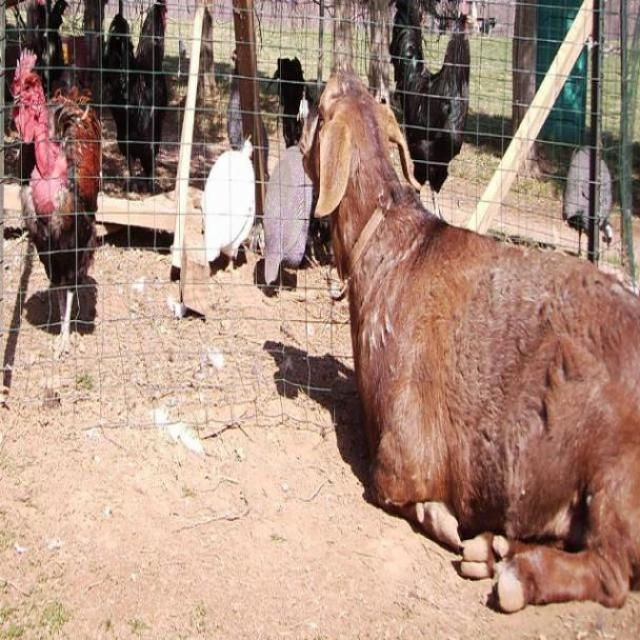Chicken: (12, 57, 99, 340), (389, 2, 471, 218), (104, 0, 167, 186)
